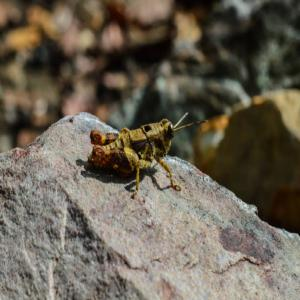locust: (76, 76, 220, 199)
